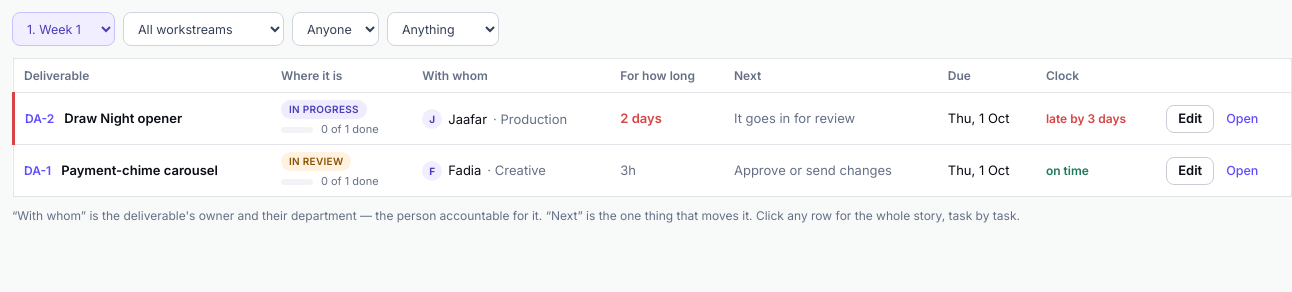
Test: WhereIsEverything — CG-03 (I57.10) › a piece with an outstanding input is Blocked, counted from the input (I67.4: "Waiting" retired)
Select "All phases" in the dropdown with test id "where-filter-phase" at (64, 29), box [12,12,115,46]
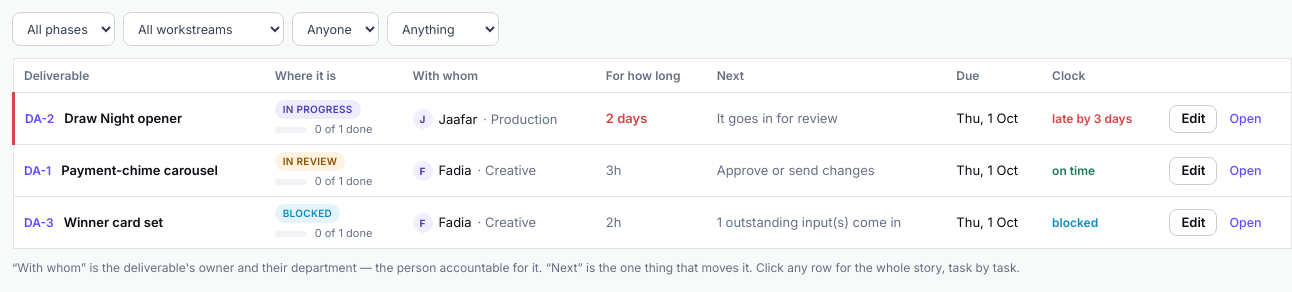
Check: the text with test id "where-status-3" reads "Blocked", box [283,207,332,219]
Check: the cell with test id "where-since-3" reads "2h", box [606,214,621,230]
Check: the cell with test id "where-next-3" reads "1 outstanding input(s) come in", box [717,214,901,230]
